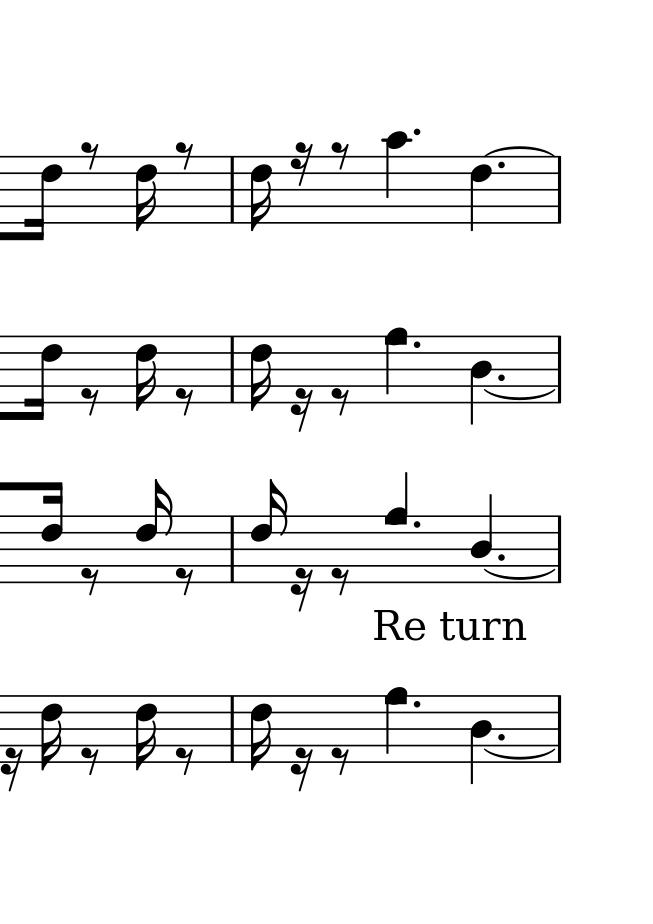16_5: (246, 694, 274, 772)
16_6: (134, 480, 173, 584), (249, 479, 287, 585), (25, 154, 63, 241), (25, 334, 62, 422), (40, 479, 65, 583), (132, 154, 160, 232), (39, 693, 65, 769), (134, 693, 158, 773), (134, 336, 159, 411), (249, 334, 273, 412), (248, 154, 272, 231)
4_10: (380, 130, 414, 224)
4_4: (467, 332, 495, 426), (467, 490, 493, 586), (468, 693, 494, 787)
4_6: (467, 154, 494, 234)
4_8: (382, 469, 411, 584), (384, 686, 412, 767), (383, 325, 409, 406)
Rests16: (288, 565, 315, 612), (288, 142, 313, 189), (289, 745, 314, 791), (291, 387, 315, 432)
Rests8: (1, 745, 26, 792), (173, 387, 201, 417), (329, 565, 353, 599), (77, 565, 104, 594), (328, 384, 353, 415), (79, 139, 102, 172), (79, 385, 103, 416), (330, 140, 352, 173), (79, 744, 101, 777), (174, 138, 195, 171), (330, 745, 351, 776), (174, 565, 197, 593), (175, 743, 194, 775)
Single_barline: (550, 155, 573, 223), (550, 692, 569, 761), (551, 336, 569, 406), (223, 516, 241, 583), (223, 696, 241, 762), (223, 337, 240, 402), (551, 515, 567, 583), (224, 157, 240, 222)
Slur: (482, 387, 556, 400), (484, 746, 552, 760), (485, 569, 555, 581), (485, 145, 552, 155)
dot: (410, 697, 423, 711), (410, 338, 423, 352), (494, 159, 507, 173), (494, 370, 507, 384), (495, 730, 508, 744), (411, 518, 425, 531), (410, 127, 423, 139), (495, 550, 507, 563)
